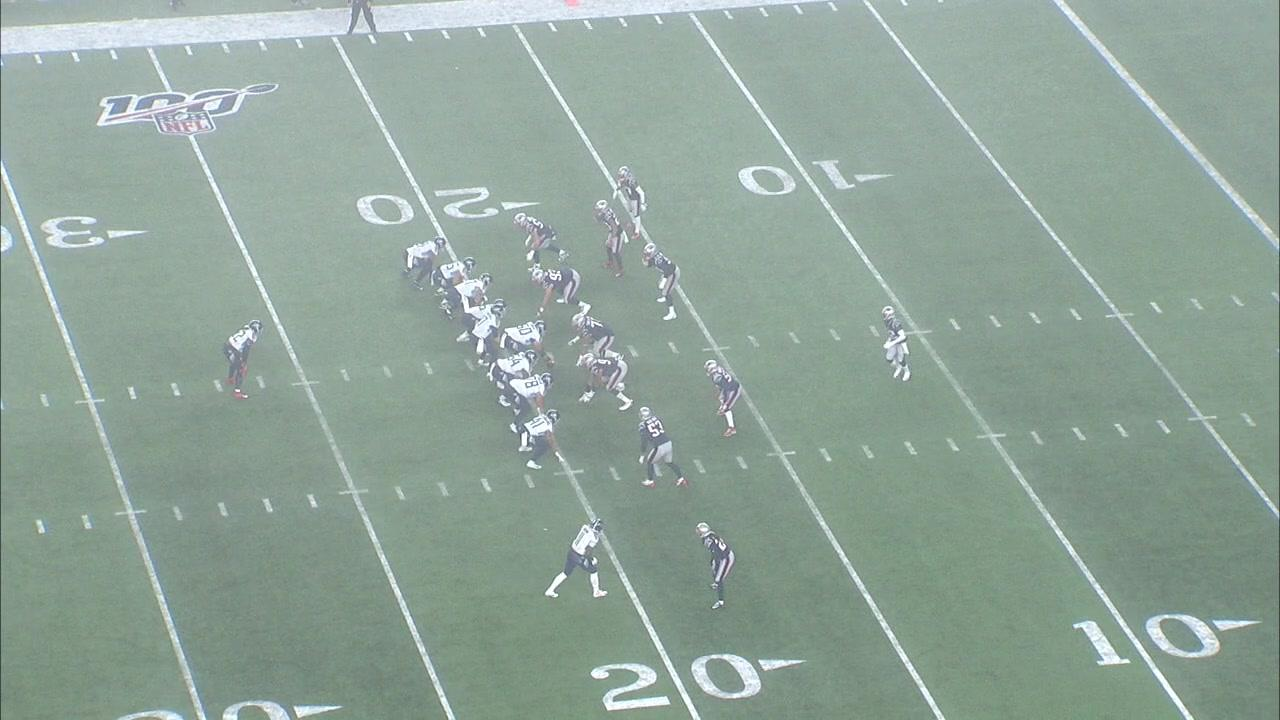player: (541, 514, 610, 601), (634, 406, 689, 490), (221, 319, 268, 402), (698, 521, 736, 612), (702, 356, 740, 443), (507, 370, 557, 435), (511, 210, 569, 265), (529, 264, 591, 315), (398, 234, 450, 291), (878, 303, 914, 383), (593, 198, 628, 279), (500, 318, 559, 366), (644, 246, 681, 322), (581, 356, 633, 410), (522, 408, 563, 476), (487, 351, 535, 409), (615, 163, 645, 240), (434, 257, 475, 312), (458, 298, 508, 343), (451, 273, 493, 316), (570, 315, 616, 354), (472, 306, 504, 361)
